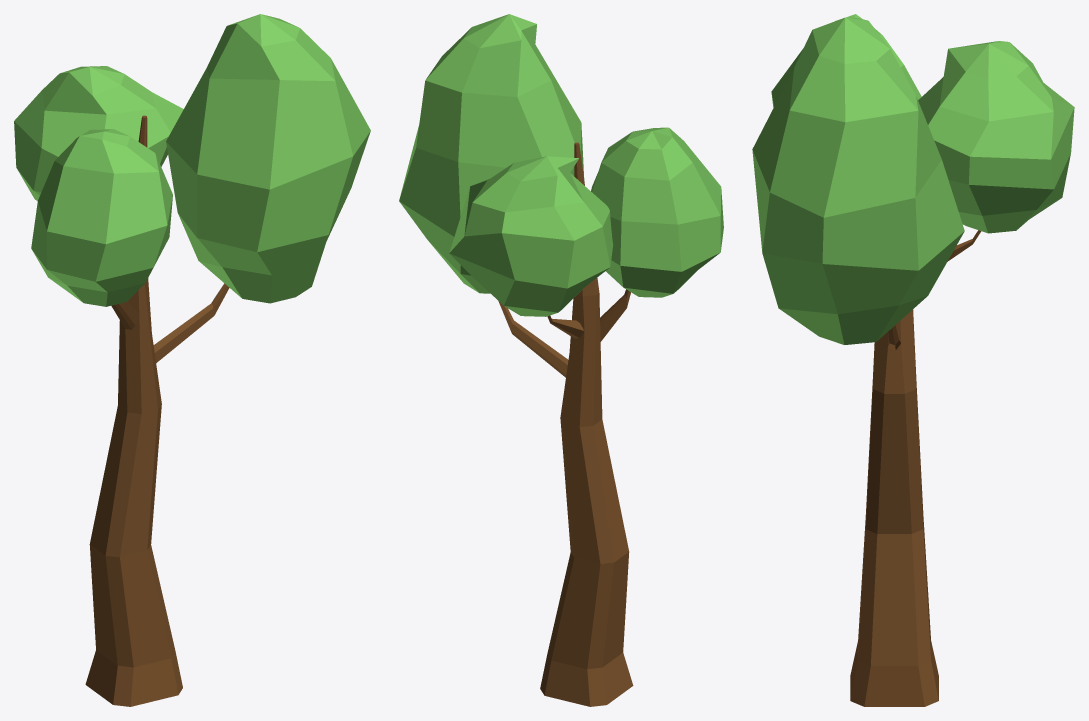
The model's file is Tree 2.fbx.
3 renders of one model, left to right at view 1: azimuth 30°, elevation 25°; view 2: azimuth 150°, elevation 25°; view 3: azimuth 270°, elevation 25°, orthographic. The views are drawn at different scales.
Visible parts, largest first — view 1: Cube.001; view 2: Cube.001; view 3: Cube.001.
Boxes of the visible parts, box(x1,y1,x2,y2) form: Cube.001: box(14, 14, 370, 706); Cube.001: box(399, 14, 723, 706); Cube.001: box(752, 14, 1074, 706).
Size of the model in its own units: 548 by 1092 by 439.
